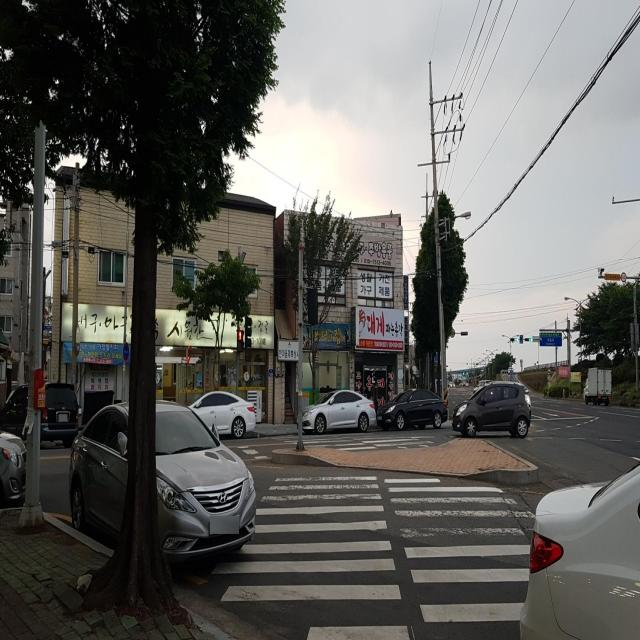횡단보도: (209, 475, 536, 640)
